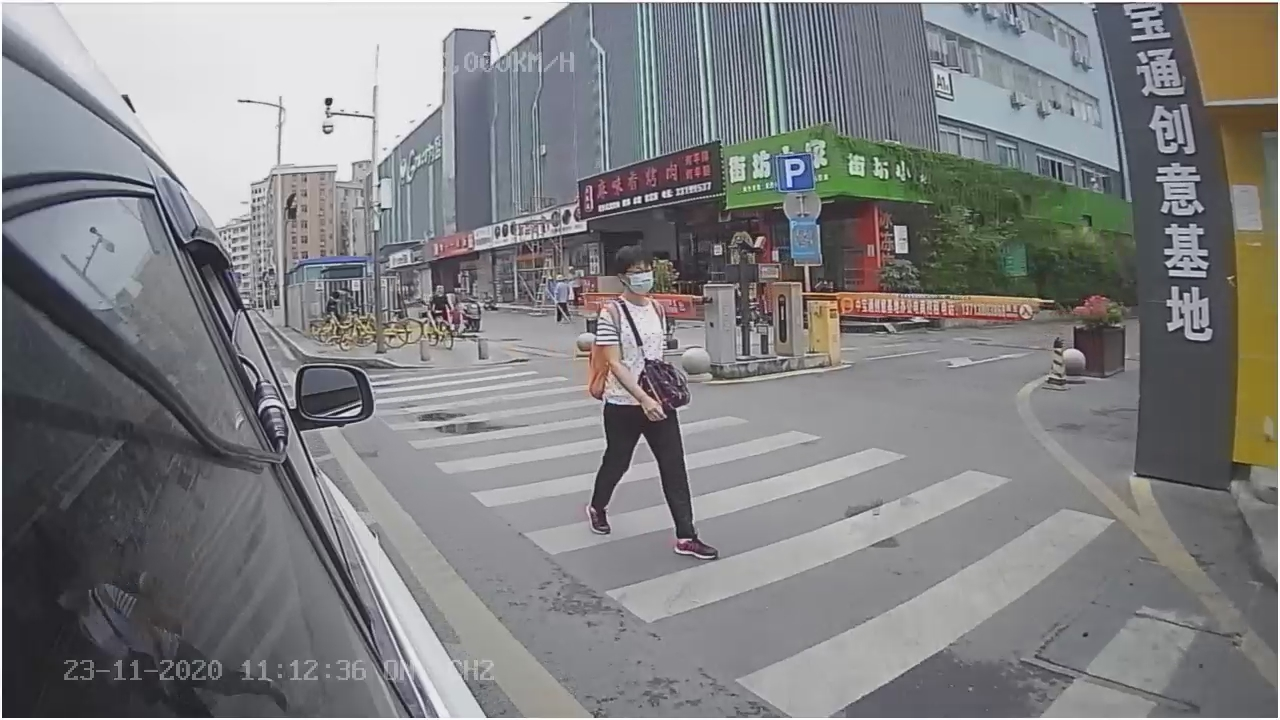person: (571, 251, 729, 573)
